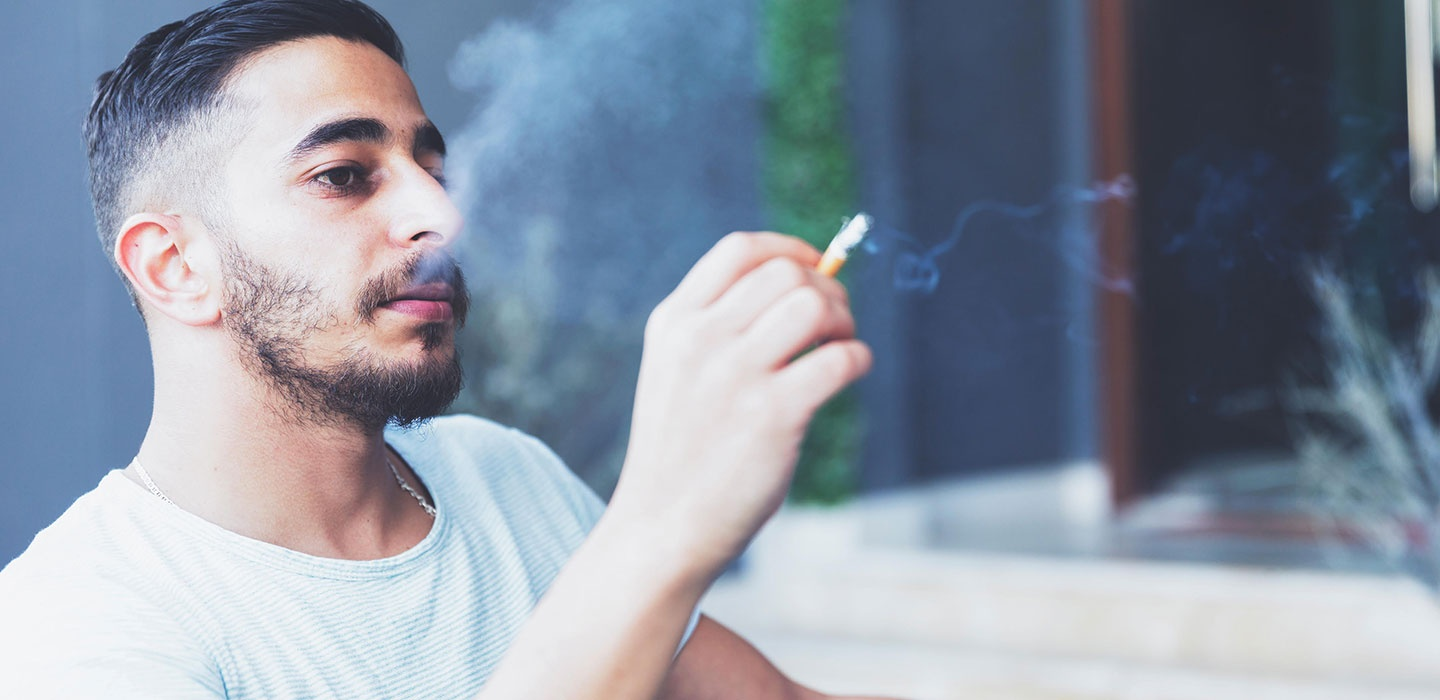sigaretta: (778, 210, 880, 326)
